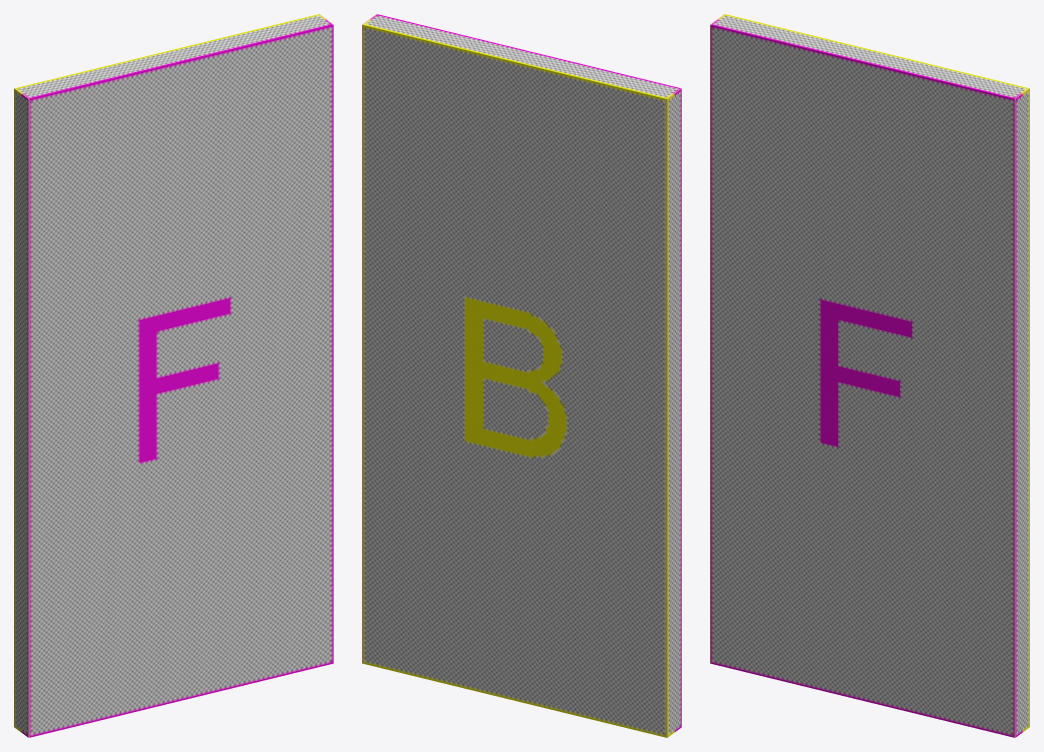
File: Wall_1x3.fbx
The picture shows the model from 3 angles, left to right: view 1: azimuth 30°, elevation 25°; view 2: azimuth 150°, elevation 25°; view 3: azimuth 330°, elevation 25°; orthographic projection.
Parts seen in each view (by area): view 1: Wall_1x3; view 2: Wall_1x3; view 3: Wall_1x3.
Part boxes in pixels (x1,y1,x2,y2): Wall_1x3: (14,14,333,737); Wall_1x3: (362,14,681,737); Wall_1x3: (710,14,1029,737).
Bounding box in the file's own units: 300 × 600 × 25.
